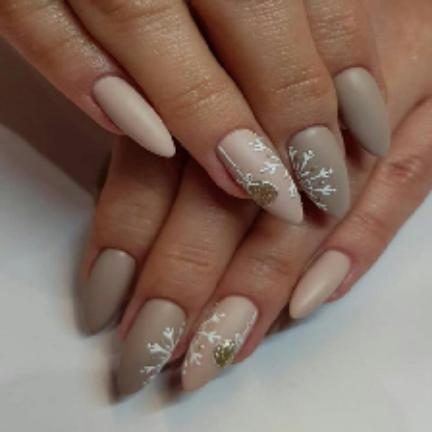Nail: (217, 129, 303, 223), (182, 296, 257, 390), (94, 76, 176, 157), (117, 299, 186, 394), (288, 126, 349, 217), (333, 68, 390, 156), (86, 249, 136, 332), (289, 251, 350, 318)
